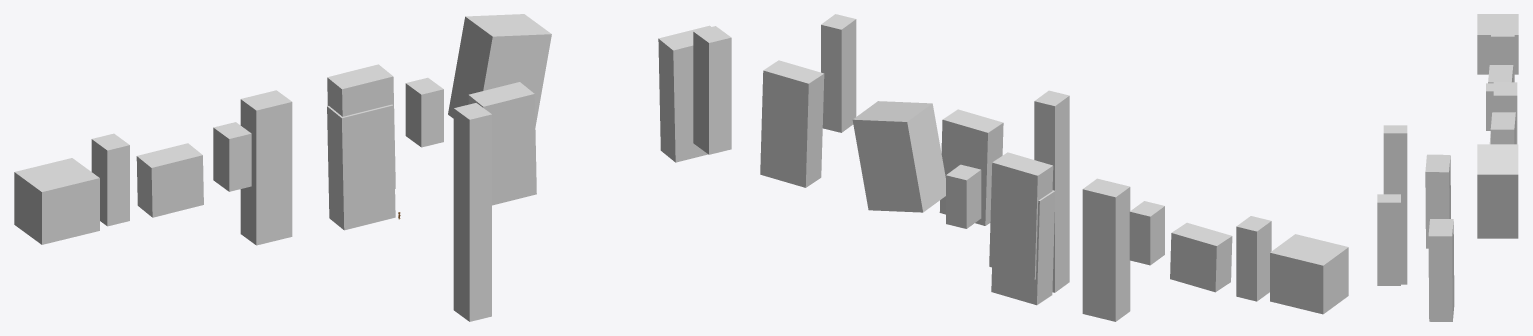
File: character.glb
3 renders of one model, left to right at view 1: azimuth 30°, elevation 25°; view 2: azimuth 150°, elevation 25°; view 3: azimuth 270°, elevation 25°, orthographic. The views are drawn at different scales.
Parts seen in each view (by area): view 1: Cube.019, Cube.015, Cube.014, Cube.021, Cube.013, Cube.020, Cube.018, Cube.023, Cube.012, Cube.011, Cube.003, Cube.010 (+1 smaller); view 2: Cube.021, Cube.023, Cube.014, Cube.003, Cube.013, Cube.019, Cube.020, Cube.018, Cube.012, Cube.015, Cube.011, Cube.001 (+1 smaller); view 3: Cube.021, Cube.023, Cube.019, Cube.018, Cube.020, Cube.013, Cube.011, Cube.014, Cube.003, Cube.012, Cube.010.
Part boxes in pixels (x1,y1,x2,y2): Cube.019: (453, 103, 491, 321); Cube.015: (327, 104, 395, 230); Cube.014: (240, 90, 292, 245); Cube.021: (448, 14, 551, 127); Cube.013: (14, 158, 99, 244); Cube.020: (468, 82, 536, 205); Cube.018: (693, 26, 731, 154); Cube.023: (658, 25, 710, 162); Cube.012: (136, 143, 203, 217); Cube.011: (91, 133, 129, 226); Cube.003: (327, 64, 395, 188); Cube.010: (213, 122, 251, 191); Cube.021: (852, 101, 945, 212); Cube.023: (760, 60, 824, 187); Cube.014: (1082, 178, 1130, 321); Cube.003: (989, 152, 1053, 279); Cube.013: (1270, 234, 1348, 314); Cube.019: (1034, 90, 1069, 292); Cube.020: (939, 109, 1003, 225); Cube.018: (821, 14, 856, 132); Cube.012: (1170, 222, 1232, 292); Cube.015: (991, 190, 1055, 305); Cube.011: (1236, 216, 1271, 301); Cube.001: (946, 164, 981, 228); Cube.021: (1477, 144, 1518, 238); Cube.023: (1428, 219, 1454, 321); Cube.019: (1383, 125, 1407, 284); Cube.018: (1377, 194, 1400, 285); Cube.020: (1425, 154, 1450, 248); Cube.013: (1477, 14, 1518, 74); Cube.011: (1491, 28, 1514, 82); Cube.014: (1493, 82, 1517, 144); Cube.003: (1490, 112, 1515, 144); Cube.012: (1488, 65, 1513, 83); Cube.010: (1486, 83, 1493, 130).
Size of the model in its own units: 209 by 68.61 by 52.29.
Materials: 14 (1 with a texture image).
